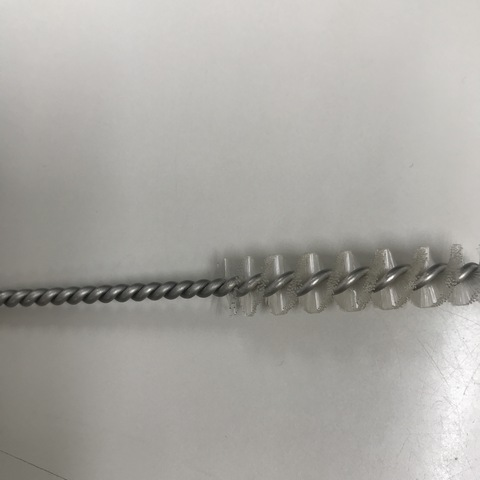Twist Brush-B: (1, 240, 478, 329)
